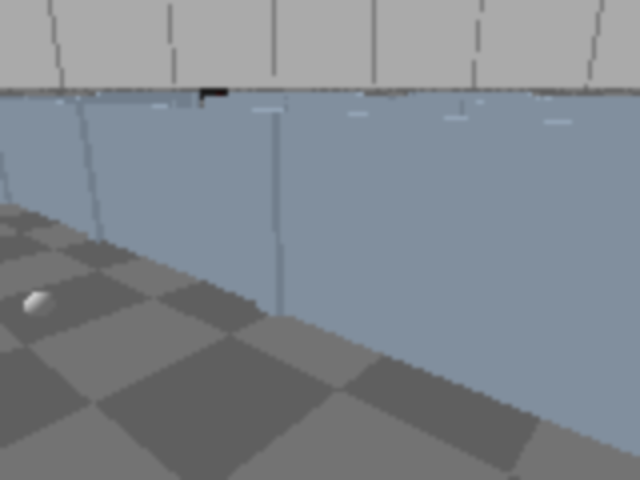puck: (16, 285, 63, 325)
